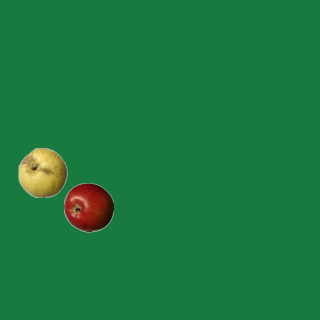Apple Braeburn: (63, 182, 113, 232)
Apple Golden 1: (17, 147, 67, 197)
